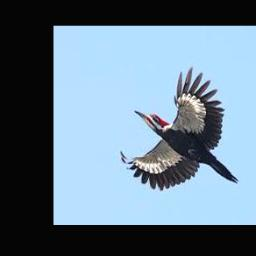Woodpecker: (120, 66, 238, 190)
